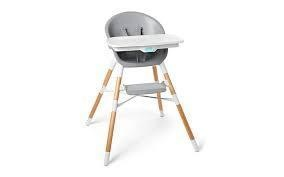obstacle: (86, 11, 198, 164)
